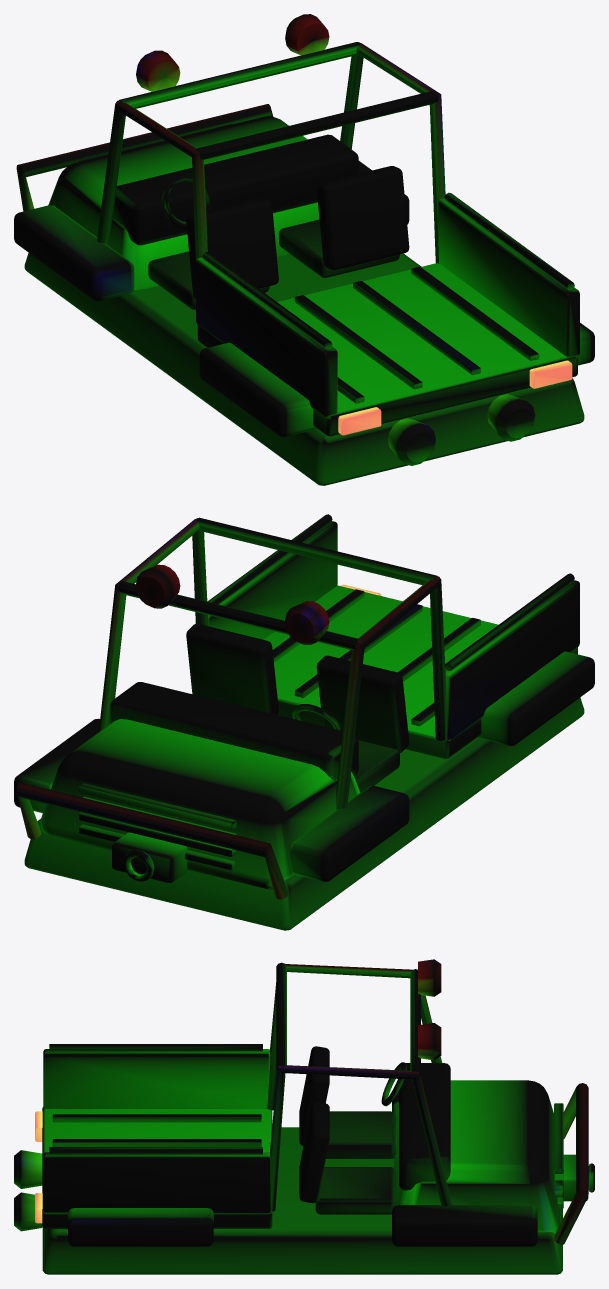
The model's file is hero_polar_rover.glb.
The picture shows the model from 3 angles, top to bottom: view 1: azimuth 30°, elevation 25°; view 2: azimuth 150°, elevation 25°; view 3: azimuth 270°, elevation 25°; orthographic projection. The views are drawn at different scales.
Visible parts, largest first — view 1: HeroPolarRover; view 2: HeroPolarRover; view 3: HeroPolarRover.
Boxes of the visible parts, box(x1,y1,x2,y2) form: HeroPolarRover: box(14, 14, 594, 485); HeroPolarRover: box(14, 514, 594, 930); HeroPolarRover: box(14, 959, 594, 1274).
Bounding box in the file's own units: 2.72 × 2.13 × 4.95.
